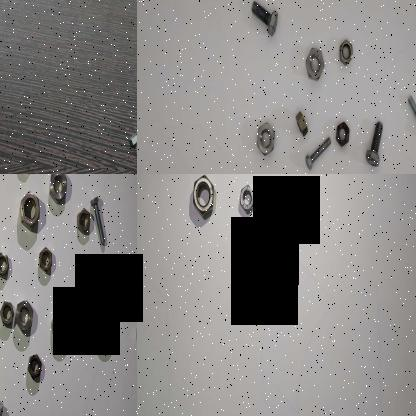Bolts: (248, 0, 279, 39), (303, 133, 332, 174), (362, 119, 386, 166), (88, 193, 106, 249), (77, 264, 93, 320), (404, 90, 416, 142), (126, 124, 137, 174)
NUTS: (190, 174, 215, 229), (300, 44, 328, 86), (253, 119, 278, 161), (18, 190, 41, 230), (94, 304, 116, 344), (48, 310, 73, 341), (14, 295, 34, 332), (236, 182, 256, 216), (294, 104, 310, 142), (26, 351, 46, 381), (337, 35, 353, 71), (74, 205, 92, 237), (48, 174, 68, 202), (334, 117, 350, 151), (35, 244, 53, 274), (0, 250, 13, 280), (107, 260, 123, 284), (0, 300, 15, 325)
